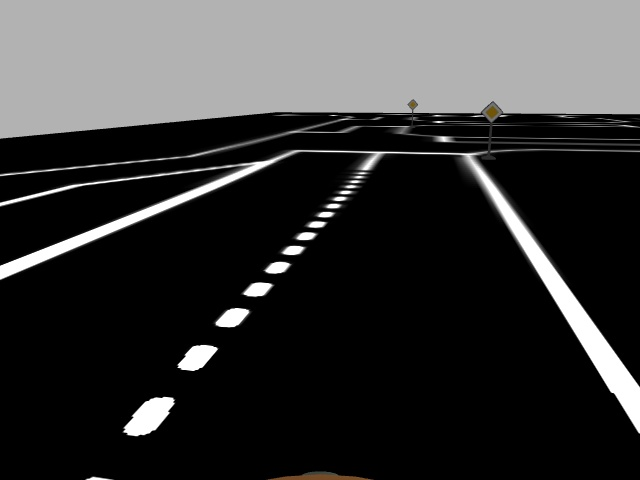priority: (480, 100, 503, 123)
